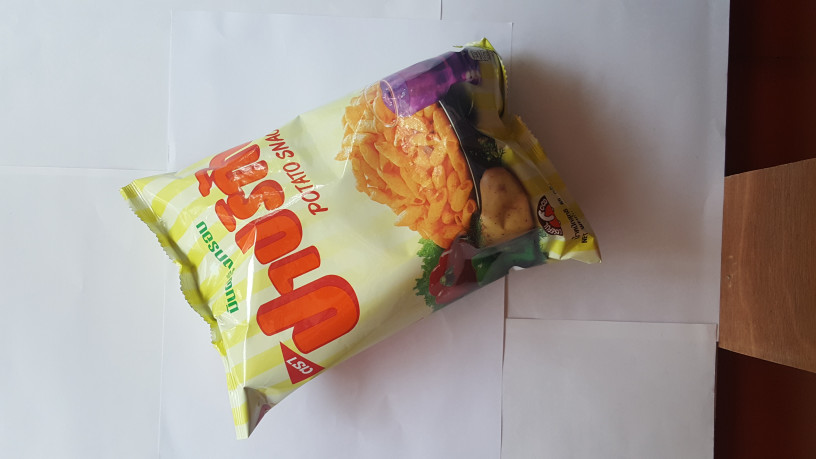paprika: (114, 43, 604, 444)
